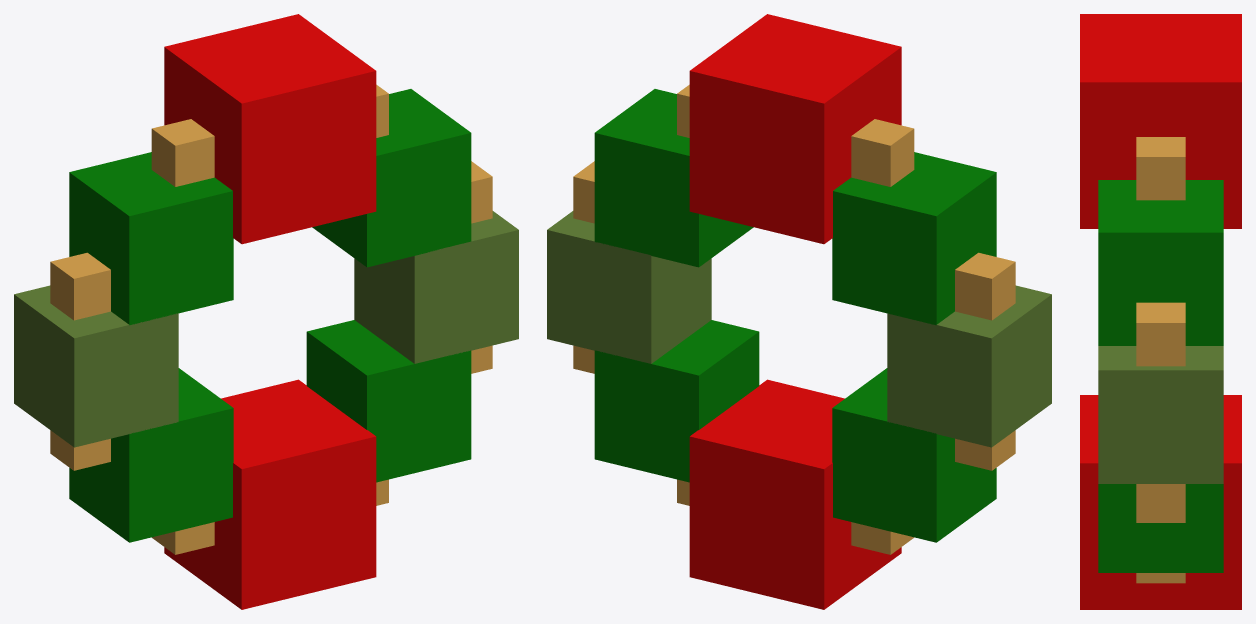
Rendered from 029 Garland.fbx.
3 renders of one model, left to right at view 1: azimuth 30°, elevation 25°; view 2: azimuth 150°, elevation 25°; view 3: azimuth 270°, elevation 25°, orthographic. The views are drawn at different scales.
Parts seen in each view (by area): view 1: Lowpoly_Christmas_Pack_029:pCube17; view 2: Lowpoly_Christmas_Pack_029:pCube17; view 3: Lowpoly_Christmas_Pack_029:pCube17.
Boxes of the visible parts, box(x1,y1,x2,y2) form: Lowpoly_Christmas_Pack_029:pCube17: box(14, 14, 518, 609); Lowpoly_Christmas_Pack_029:pCube17: box(547, 14, 1051, 609); Lowpoly_Christmas_Pack_029:pCube17: box(1080, 14, 1241, 609).
Bounding box in the file's own units: 1.65 × 1.8 × 0.5.
